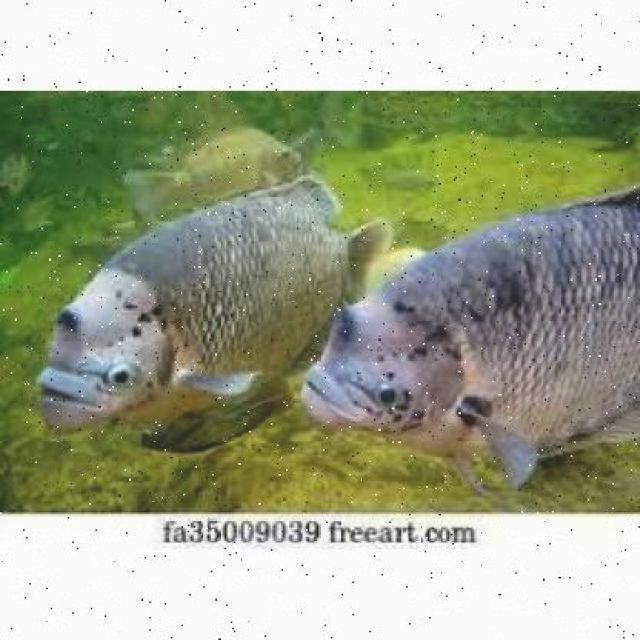gurame: (301, 188, 634, 480), (38, 183, 374, 429)
